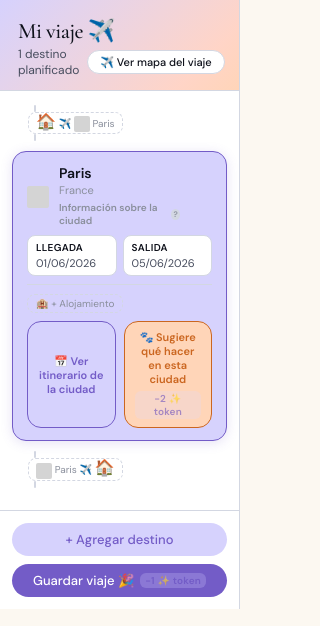
Scenario: StopListComponent — city info badge (visa/currency/plug) › shows currency and plug rows to an anonymous visitor (Paris -> EUR, no adapter flag without a home country)
Hover over the element with class "city-info-trigger" at (120, 214), box [59,202,180,228]
Wait 150 ms
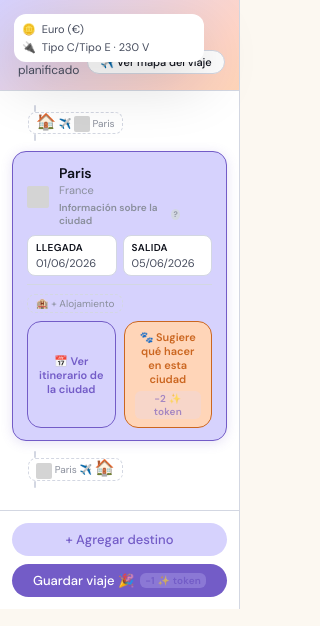
Now the tooltip with class "city-info-popover" shows "€", box [42,22,84,36]
Now the tooltip with class "city-info-popover" shows "Tipo", box [42,40,149,54]
